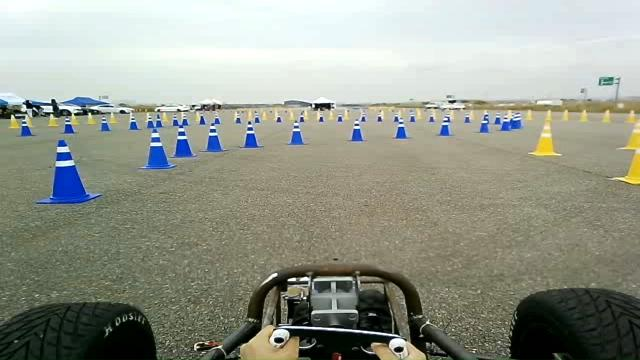blue cone: (35, 139, 102, 204), (138, 127, 176, 170), (168, 126, 197, 158), (198, 123, 228, 152), (238, 121, 263, 148), (286, 120, 307, 145), (348, 120, 366, 142), (392, 119, 411, 139), (437, 114, 453, 136)
yellow cone: (611, 135, 640, 182), (529, 115, 561, 157), (637, 128, 638, 131)
